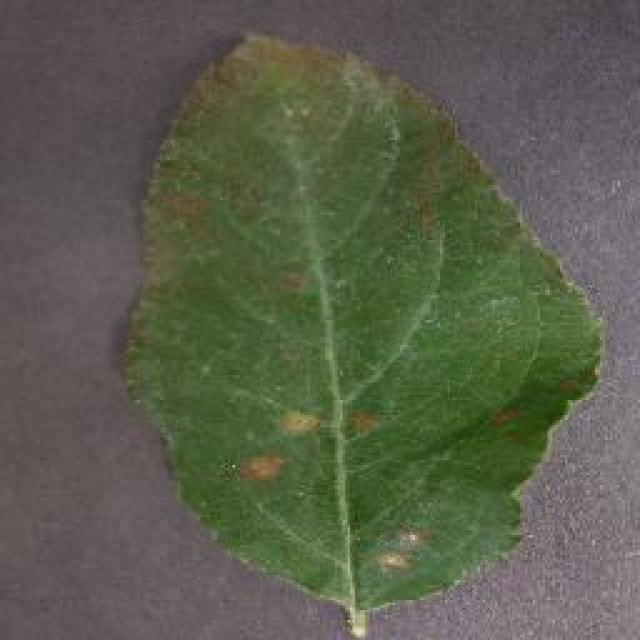apple rust disease: (117, 28, 605, 638)
